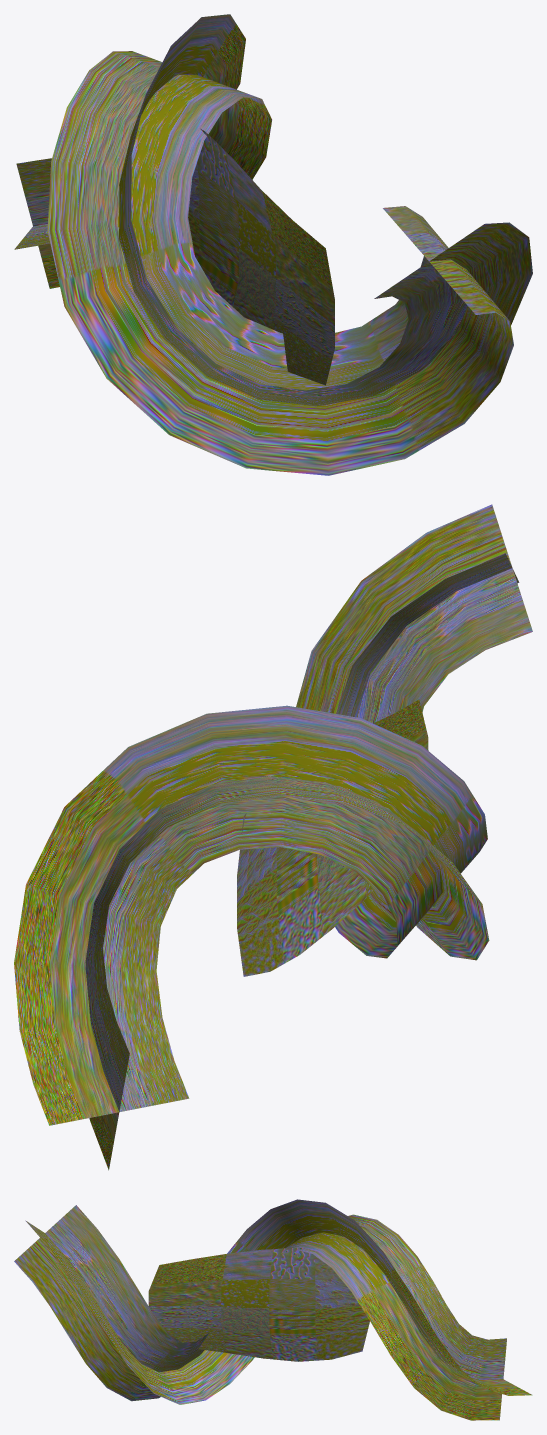
Rendered from zhexingcuishan_source_fx_input_02.glb.
The picture shows the model from 3 angles, top to bottom: view 1: azimuth 30°, elevation 25°; view 2: azimuth 150°, elevation 25°; view 3: azimuth 270°, elevation 25°; orthographic projection. The views are drawn at different scales.
Visible parts, largest first — view 1: wp_saber_xingtian; view 2: wp_saber_xingtian; view 3: wp_saber_xingtian.
Boxes of the visible parts, x1,y1,x2,y2 form: wp_saber_xingtian: (14, 14, 532, 475); wp_saber_xingtian: (14, 504, 532, 1170); wp_saber_xingtian: (14, 1199, 532, 1420).
Size of the model in its own units: 0.2649 by 0.2843 by 0.6384.
Materials: 1 (1 with a texture image).
